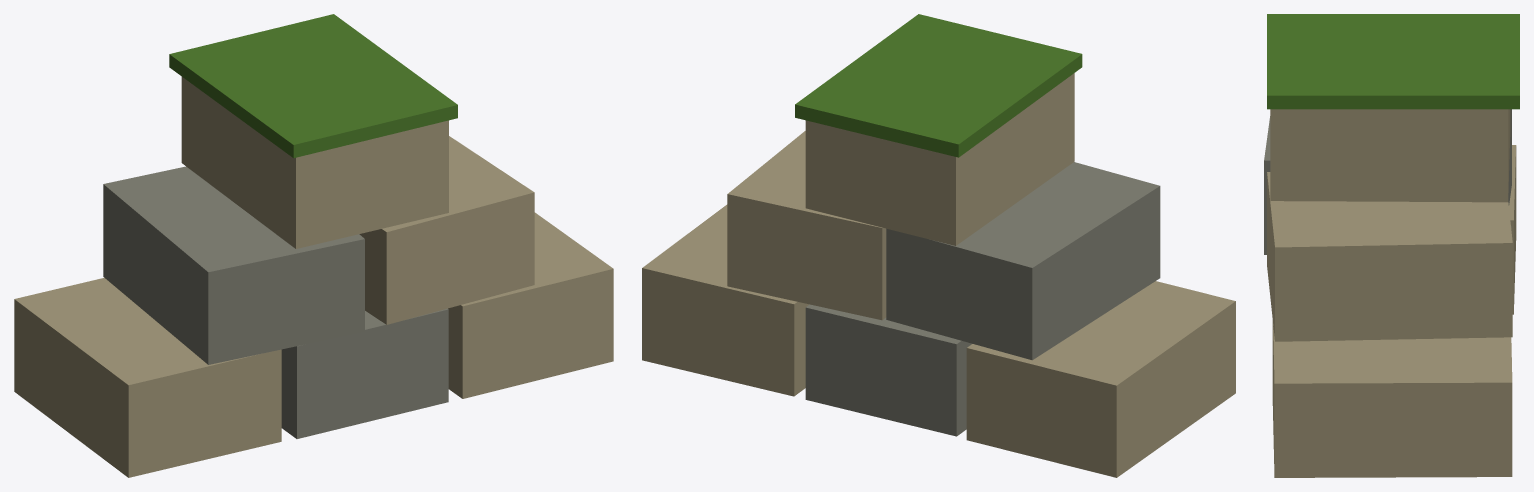
File: stone_platform.glb
3 renders of one model, left to right at view 1: azimuth 30°, elevation 25°; view 2: azimuth 150°, elevation 25°; view 3: azimuth 270°, elevation 25°, orthographic. The views are drawn at different scales.
Parts seen in each view (by area): view 1: stone_temple-col, stone-col, moss-col; view 2: stone_temple-col, stone-col, moss-col; view 3: stone_temple-col, moss-col, stone-col.
Boxes of the visible parts, x1,y1,x2,y2 form: stone_temple-col: (14,77,613,477); stone-col: (103,166,448,438); moss-col: (169,14,457,158); stone_temple-col: (642,73,1235,477); stone-col: (805,162,1160,436); moss-col: (795,14,1082,157); stone_temple-col: (1267,109,1516,477); moss-col: (1267,14,1519,109); stone-col: (1264,109,1511,254).
Bounding box in the file's own units: 3.82 × 2.25 × 1.72.
